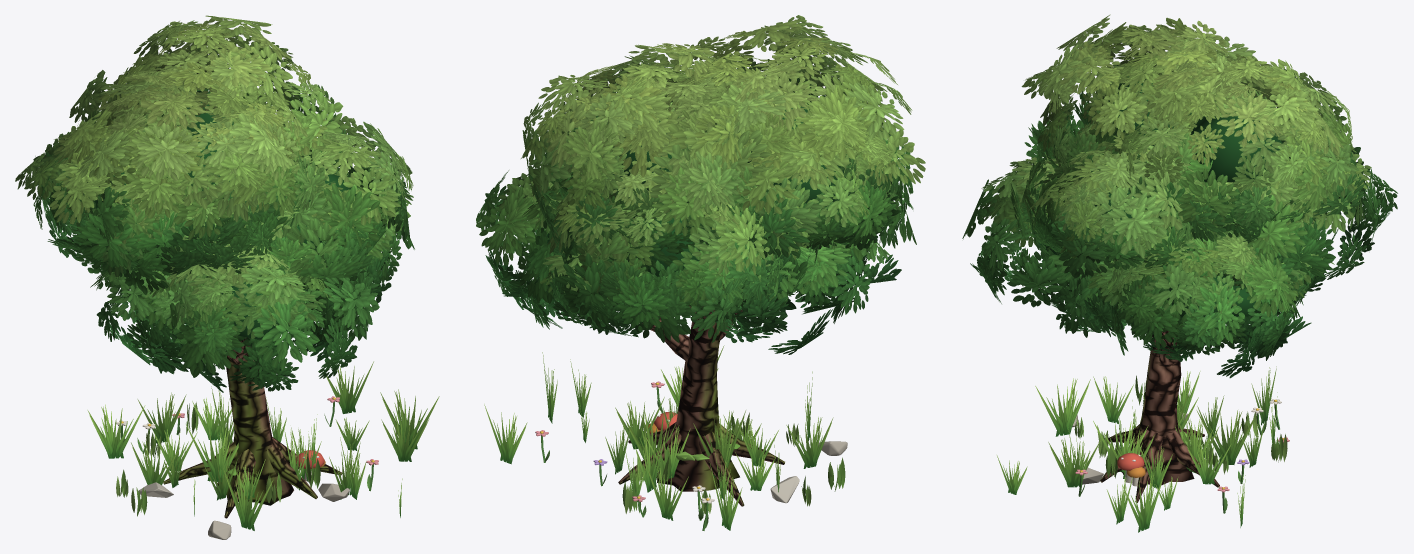
File: tree_blossom.gltf
3 views of the same model, side by side, from view 1: azimuth 30°, elevation 25°; view 2: azimuth 150°, elevation 25°; view 3: azimuth 270°, elevation 25° (orthographic). The views are drawn at different scales.
Parts seen in each view (by area): view 1: Canopy_summer, Undergrowth, Trunk, Base; view 2: Canopy_summer, Undergrowth, Trunk, Base; view 3: Canopy_summer, Undergrowth, Trunk, Base.
Boxes of the visible parts, bbox=[...] form: Canopy_summer: bbox=[15, 15, 414, 392]; Undergrowth: bbox=[87, 361, 439, 530]; Trunk: bbox=[163, 338, 342, 518]; Base: bbox=[115, 396, 378, 539]; Canopy_summer: bbox=[476, 15, 925, 354]; Undergrowth: bbox=[484, 345, 833, 530]; Trunk: bbox=[618, 300, 784, 506]; Base: bbox=[535, 381, 847, 530]; Canopy_summer: bbox=[962, 14, 1397, 378]; Undergrowth: bbox=[997, 366, 1277, 532]; Trunk: bbox=[1100, 323, 1219, 502]; Base: bbox=[1063, 375, 1289, 513].
Size of the model in its own units: 4.66 by 4.83 by 4.74.
19 materials, 2 textured.
